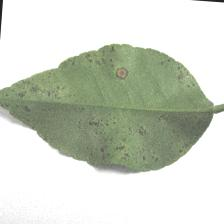canker: (15, 38, 202, 165)
